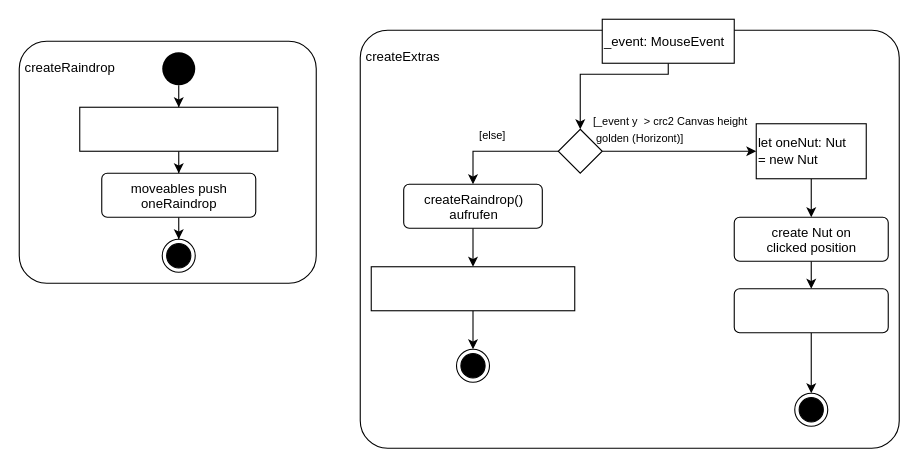
Image size: 919x468. Some labels were removed from this diagram. The shapes that lost their labels are listed below. From the top down, each one's box as (x1, y1, x2, y2) in pixels, then its label:
(79, 106, 278, 151): let oneRaindrop: Raindrop = new Rainsrop
(370, 266, 575, 311): window. set Timeout 100 msec window. set Timeout 200 msec
(733, 288, 888, 333): put Nut in nuts
